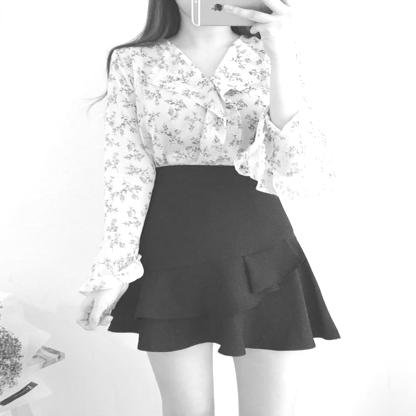dress: (84, 25, 340, 292)
jacket: (100, 157, 342, 358)
